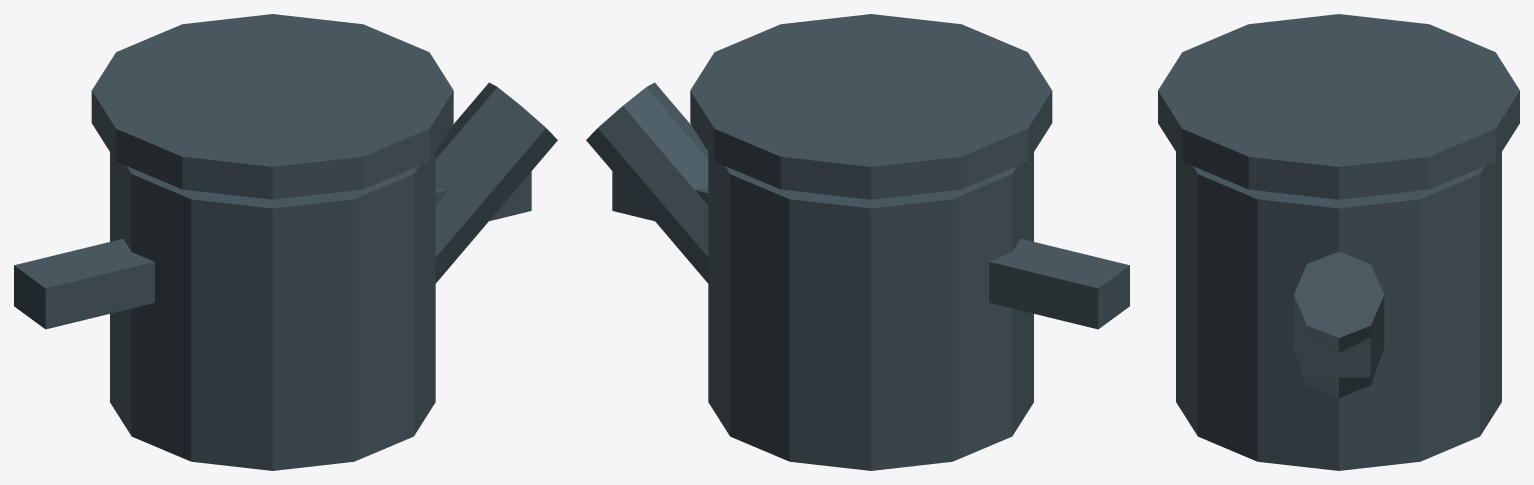
The model's file is set_tea_kettle.glb.
The picture shows the model from 3 angles, left to right: view 1: azimuth 30°, elevation 25°; view 2: azimuth 150°, elevation 25°; view 3: azimuth 270°, elevation 25°; orthographic projection.
Parts seen in each view (by area): view 1: set_tea_kettle; view 2: set_tea_kettle; view 3: set_tea_kettle.
Part boxes in pixels (x1,y1,x2,y2): set_tea_kettle: (14, 14, 557, 470); set_tea_kettle: (586, 14, 1129, 470); set_tea_kettle: (1158, 14, 1519, 470).
Size of the model in its own units: 0.3316 by 0.19 by 0.2.
